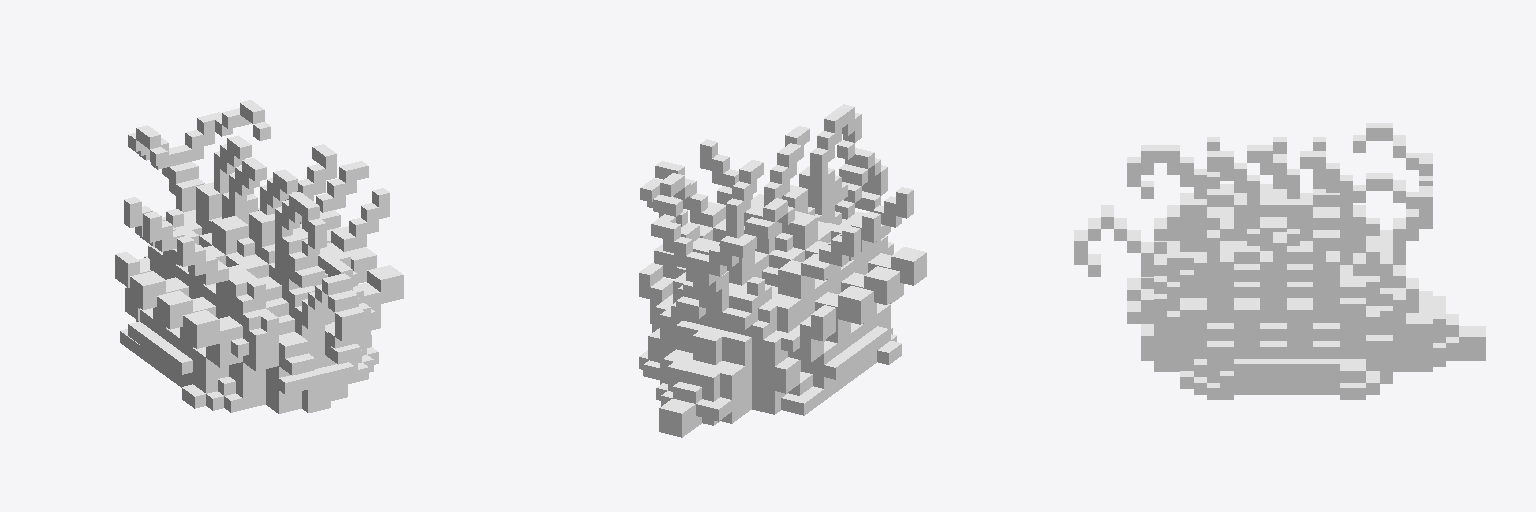
The model's file is GoldArici.obj.
3 views of the same model, side by side, from view 1: azimuth 30°, elevation 25°; view 2: azimuth 150°, elevation 25°; view 3: azimuth 270°, elevation 25° (orthographic).
Parts seen in each view (by area): view 1: object 1; view 2: object 1; view 3: object 1.
Boxes of the visible parts, <box> form: object 1: <box>115,100,403,413</box>; object 1: <box>639,104,926,437</box>; object 1: <box>1074,123,1485,399</box>.
Bounding box in the file's own units: 1.9 × 1.7 × 3.1.